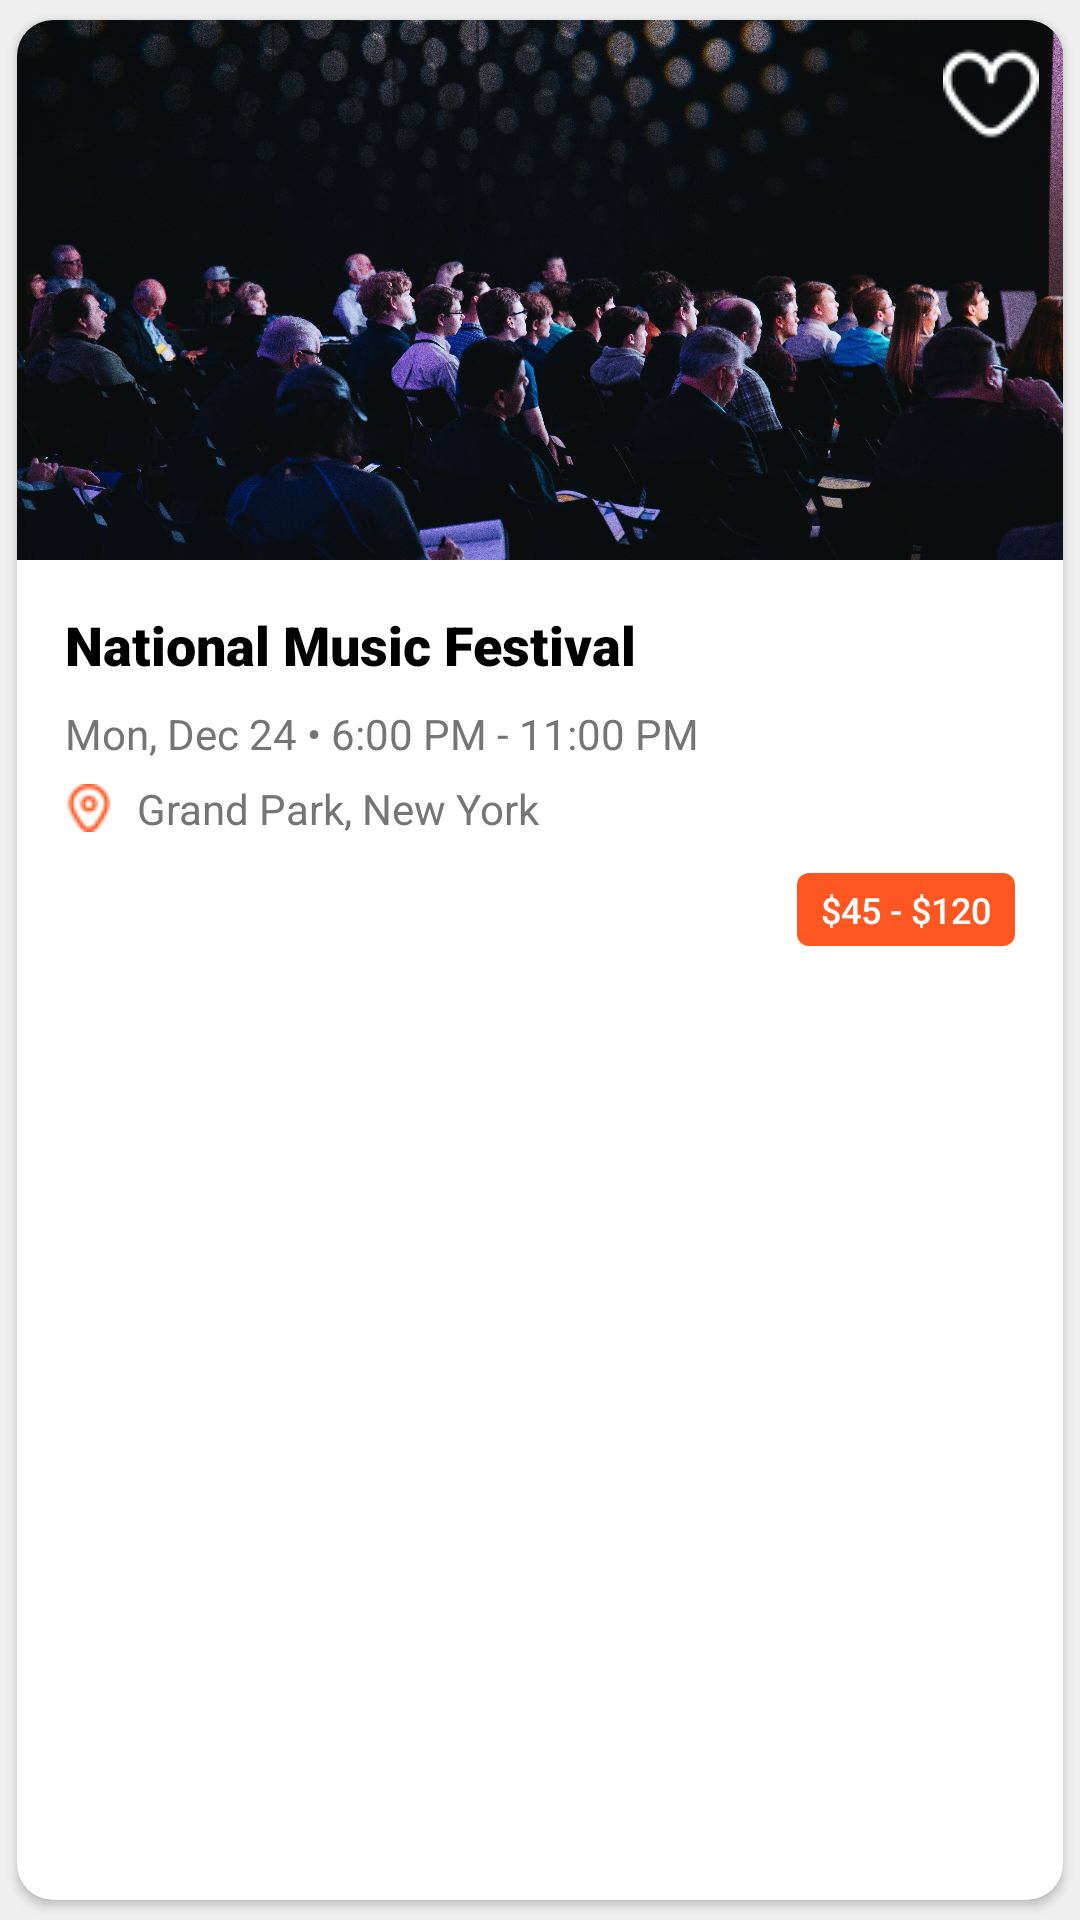

Where icons sit on this 1080x1920 app screen, as (x1, y1, x2, y2):
heart: (943, 49, 1039, 138)
